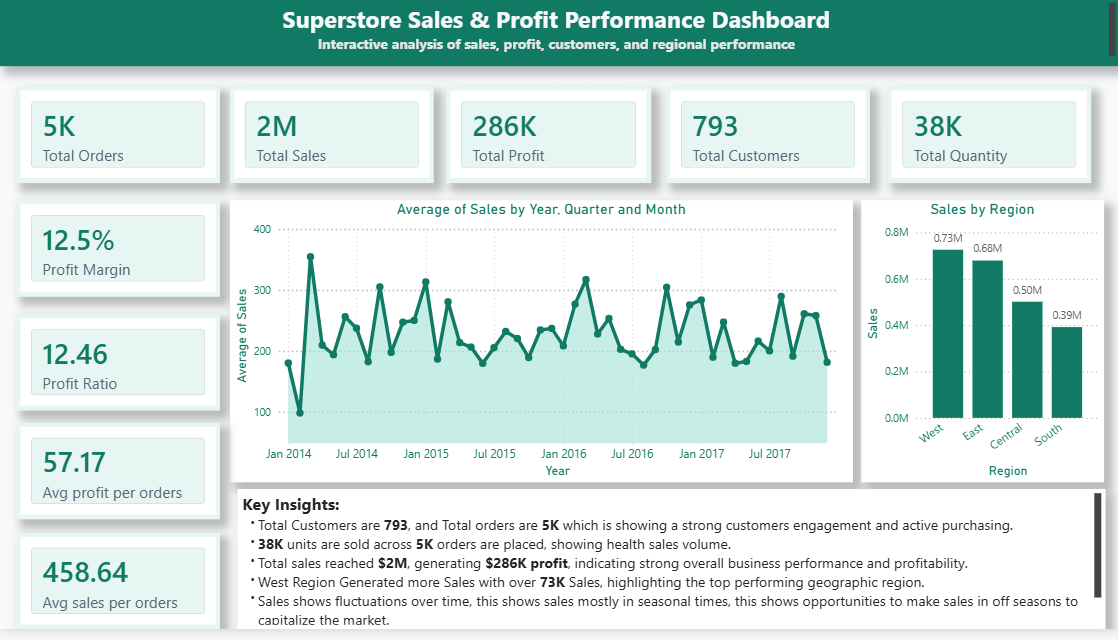

This screenshot's page, from the dashboard's own definition file:
{"tool":"powerbi","page":{"name":"Executive Overview","canvas":[1280,720],"ordinal":0},"visuals":[{"type":"textbox","box":[0,0,1280.3,76.8],"z":0},{"type":"cardVisual","fields":{"Data":["Sample - Superstore.Total Orders"]},"box":[18.4,99.4,233.1,110.4],"z":1000},{"type":"cardVisual","fields":{"Data":["Sample - Superstore.Total Sales"]},"box":[262.6,99.4,233.1,110.4],"z":2000},{"type":"cardVisual","fields":{"Data":["Sample - Superstore.Total Profit"]},"box":[510.4,99.4,234.4,110.4],"z":3000},{"type":"cardVisual","fields":{"Data":["Sample - Superstore.Total Customers"]},"box":[762,99.4,233.1,110.4],"z":4000},{"type":"cardVisual","fields":{"Data":["Sample - Superstore.Total Quantity"]},"box":[1014.7,99.4,233.1,110.4],"z":5000},{"type":"cardVisual","fields":{"Data":["Sample - Superstore.Profit Ratio"]},"box":[18.4,359.5,233.1,110.4],"z":6000},{"type":"cardVisual","fields":{"Data":["Sample - Superstore.Profit Margin"]},"box":[18.4,229.4,233.1,110.4],"z":7000},{"type":"lineChart","fields":{"Y":["Avg(Sample - Superstore.Sales)"],"Category":["Sample - Superstore.Order Date.Variation.Date Hierarchy.Year","Sample - Superstore.Order Date.Variation.Date Hierarchy.Quarter","Sample - Superstore.Order Date.Variation.Date Hierarchy.Month"]},"box":[262.6,229.4,711.7,322.7],"z":8000},{"type":"clusteredColumnChart","title":"Sales by Region","fields":{"Category":["Sample - Superstore.Region"],"Y":["Sum(Sample - Superstore.Sales)"]},"box":[984.1,229.4,277.3,322.7],"z":9000},{"type":"cardVisual","fields":{"Data":["Sample - Superstore.Avg profit per orders"]},"box":[18.4,484.7,233.1,110.4],"z":10000},{"type":"cardVisual","fields":{"Data":["Sample - Superstore.Avg sales per orders"]},"box":[18.4,609.8,233.1,110.4],"z":11000},{"type":"textbox","box":[272,560,992,160],"z":12000}]}

Visuals, with their boxes in screenshot pixels (x1, y1, x2, y2), scaled from the page's 1280x720 canvas onto the 1118x640 screenshot:
textbox: (left=0, top=0, right=1117, bottom=68)
cardVisual - Sample - Superstore.Total Orders: (left=16, top=88, right=220, bottom=186)
cardVisual - Sample - Superstore.Total Sales: (left=229, top=88, right=433, bottom=186)
cardVisual - Sample - Superstore.Total Profit: (left=446, top=88, right=651, bottom=186)
cardVisual - Sample - Superstore.Total Customers: (left=666, top=88, right=869, bottom=186)
cardVisual - Sample - Superstore.Total Quantity: (left=886, top=88, right=1090, bottom=186)
cardVisual - Sample - Superstore.Profit Ratio: (left=16, top=320, right=220, bottom=418)
cardVisual - Sample - Superstore.Profit Margin: (left=16, top=204, right=220, bottom=302)
lineChart - Avg(Sample - Superstore.Sales) x Sample - Superstore.Order Date.Variation.Date Hierarchy.Year: (left=229, top=204, right=851, bottom=491)
"Sales by Region" clusteredColumnChart: (left=860, top=204, right=1102, bottom=491)
cardVisual - Sample - Superstore.Avg profit per orders: (left=16, top=431, right=220, bottom=529)
cardVisual - Sample - Superstore.Avg sales per orders: (left=16, top=542, right=220, bottom=639)
textbox: (left=238, top=498, right=1104, bottom=639)
